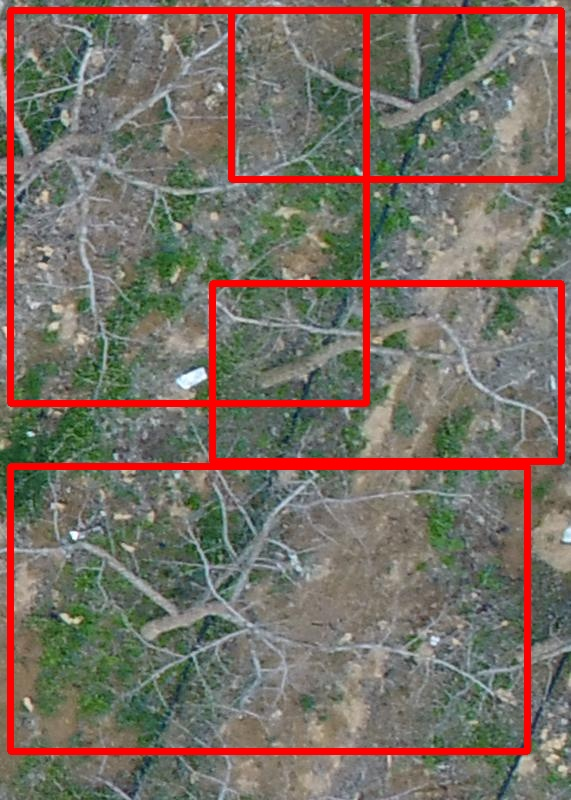apple: (10, 466, 527, 751), (10, 10, 366, 403), (212, 283, 561, 461), (231, 10, 561, 179)
